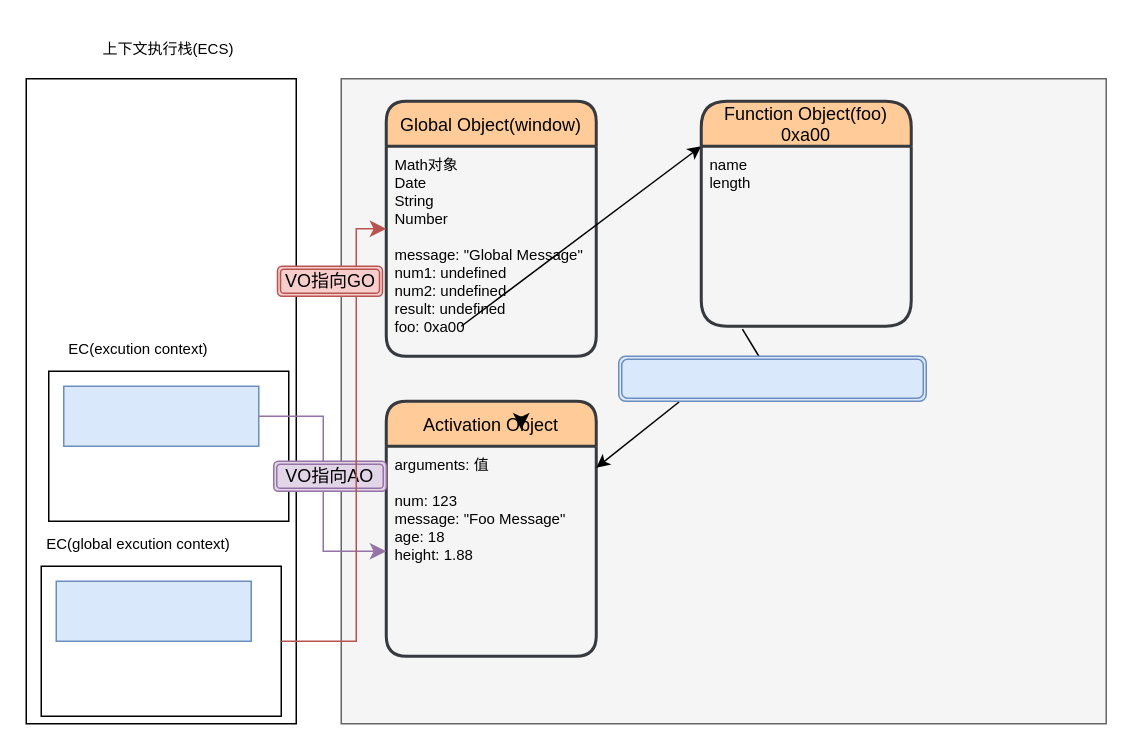
Some shapes in this 1133 by 750 pixel diagram are drawn without their labels. The centre of each missing label's shape, as x and y in pixels:
"VO: AO" belongs at (x=160, y=415).
"VO: GO scope chain this" belongs at (x=153, y=610).
"进行函数执行上下文时会创建AO对象" belongs at (x=771, y=378).
